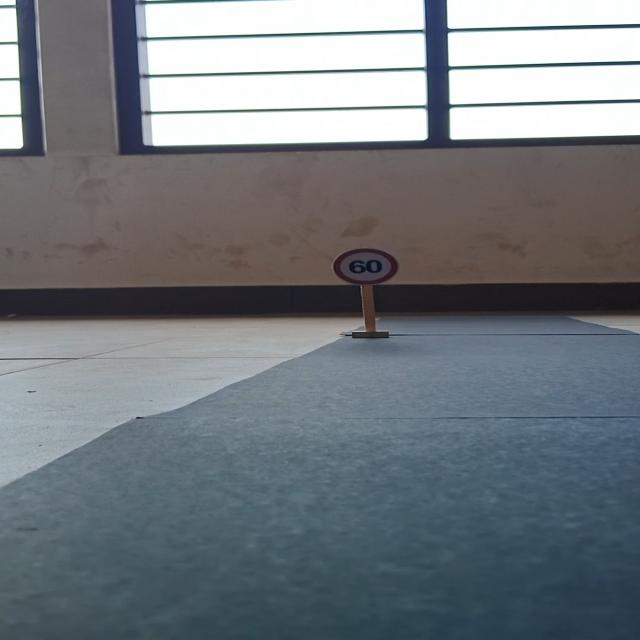Speed60: (329, 246, 404, 286)
